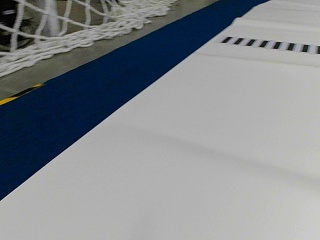crosswalk: (218, 35, 318, 53)
